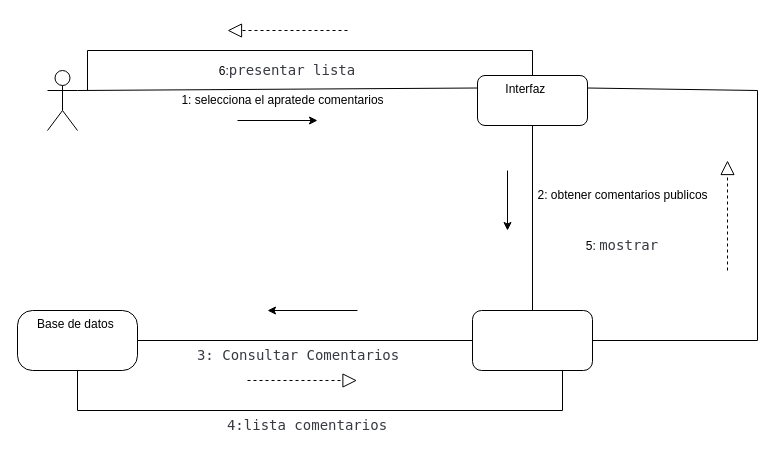
This 776x458 diagram has some shape labels left out. The box of each missing label's shape, as (x1, y1, x2, y2) in pixels:
Actor: (46, 70, 78, 130)
contralador: (472, 310, 592, 370)
